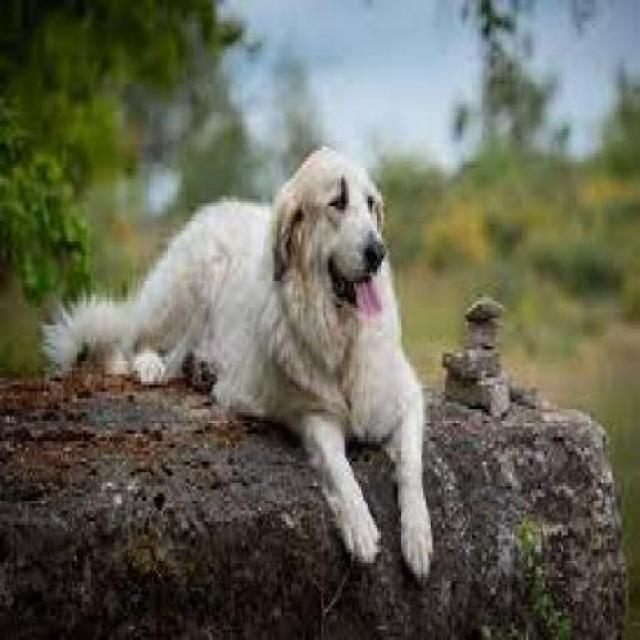animals: (41, 101, 456, 577)
